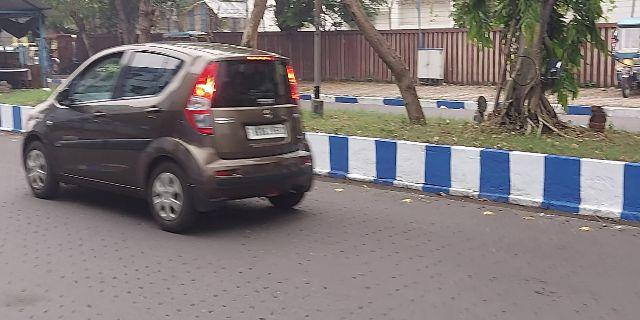Car: (23, 43, 319, 230)
